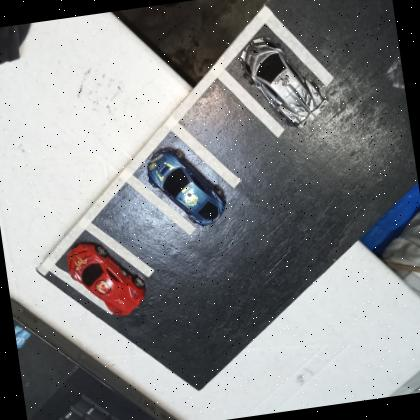Car: (236, 30, 334, 142), (144, 142, 232, 236), (63, 234, 151, 324)
